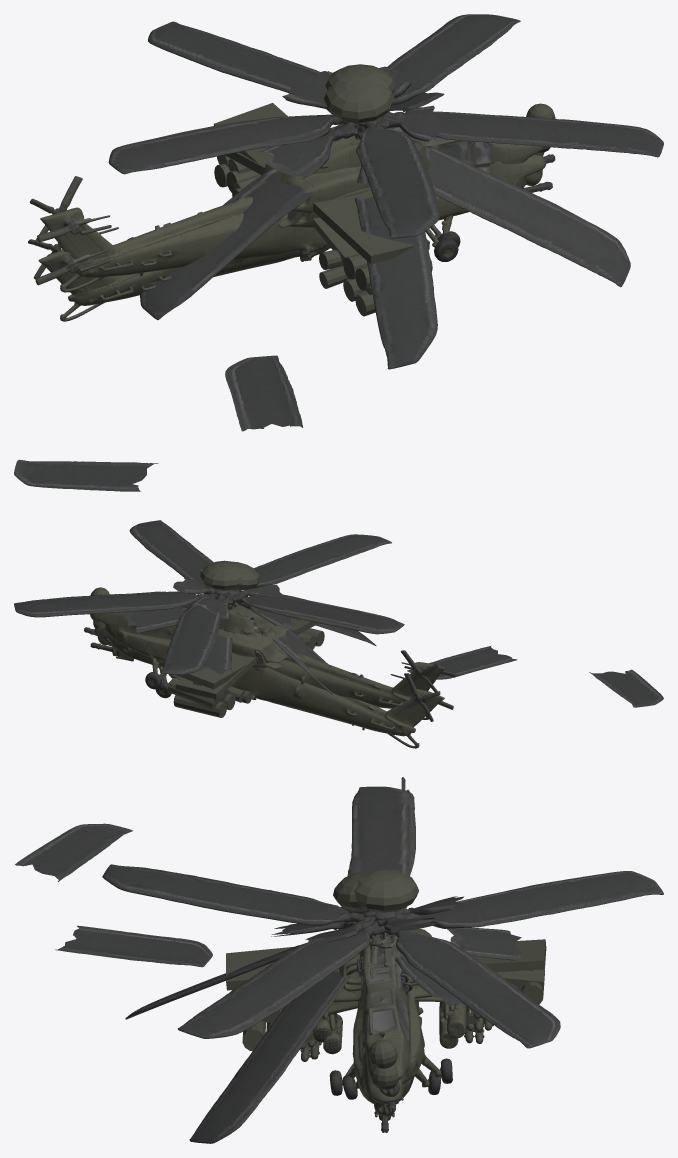
File: heli_peten_gunship.glb
3 views of the same model, one above another, from view 1: azimuth 30°, elevation 25°; view 2: azimuth 150°, elevation 25°; view 3: azimuth 270°, elevation 25° (orthographic). The views are drawn at different scales.
Parts seen in each view (by area): view 1: WRECK_rotor_metal, rotor_metal, hull_hull, WRECK_hull_hull, stores_hull, WRECK_stores_metal, stores_metal, WRECK_stores_hull, WRECK_hull_glass; view 2: rotor_metal, WRECK_hull_hull, WRECK_rotor_metal, hull_hull, stores_metal, stores_hull, WRECK_stores_hull, hull_glass, WRECK_stores_metal; view 3: rotor_metal, WRECK_rotor_metal, WRECK_hull_hull, hull_hull, stores_metal, stores_hull, WRECK_stores_metal, WRECK_stores_hull, WRECK_hull_glass, hull_glass, WRECK_sensor_glass, sensor_glass.
Part boxes in pixels (x1,y1,x2,y2): WRECK_rotor_metal: (14, 66, 630, 491); rotor_metal: (108, 14, 663, 238); hull_hull: (29, 155, 546, 292); WRECK_hull_hull: (28, 137, 543, 321); stores_hull: (225, 152, 429, 269); WRECK_stores_metal: (217, 83, 394, 316); stores_metal: (214, 64, 432, 290); WRECK_stores_hull: (213, 103, 372, 295); WRECK_hull_glass: (313, 127, 421, 173); rotor_metal: (14, 520, 404, 674); WRECK_hull_hull: (91, 607, 453, 748); WRECK_rotor_metal: (122, 569, 663, 707); hull_hull: (94, 621, 455, 719); stores_metal: (173, 560, 324, 717); stores_hull: (175, 618, 318, 703); WRECK_stores_hull: (175, 641, 316, 702); hull_glass: (219, 603, 273, 635); WRECK_stores_metal: (168, 561, 260, 709); rotor_metal: (102, 786, 663, 1048); WRECK_rotor_metal: (15, 823, 521, 1143); WRECK_hull_hull: (300, 906, 493, 1099); hull_hull: (313, 777, 484, 1117); stores_metal: (262, 869, 521, 1022); stores_hull: (226, 947, 544, 1028); WRECK_stores_metal: (242, 869, 544, 1050); WRECK_stores_hull: (232, 939, 546, 1044); WRECK_hull_glass: (356, 935, 396, 979); hull_glass: (360, 930, 410, 980); WRECK_sensor_glass: (368, 1039, 397, 1068); sensor_glass: (370, 1064, 399, 1090).
Size of the model in its own units: 6.1 by 1.54 by 4.78.
1 material, 1 textured.
